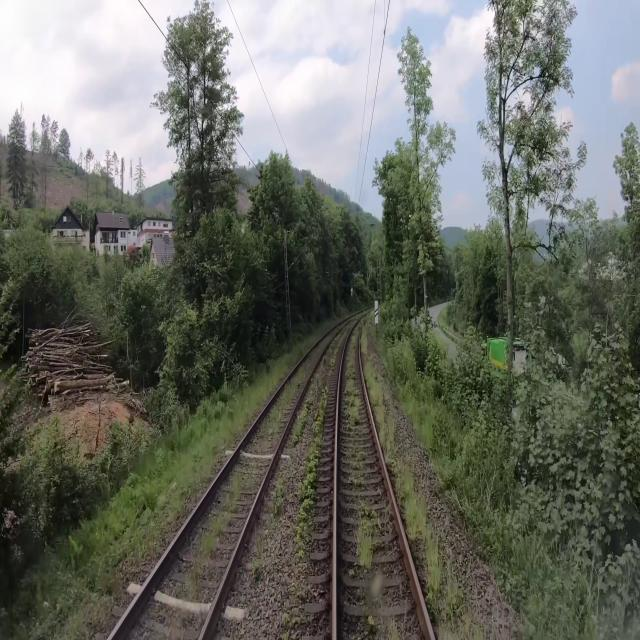Plant: (30, 315, 344, 639), (360, 303, 486, 639), (188, 469, 242, 593), (291, 388, 328, 564), (291, 358, 325, 446), (268, 365, 305, 428), (343, 330, 361, 432), (352, 503, 378, 569), (344, 447, 366, 486), (379, 611, 403, 639), (282, 609, 302, 638), (248, 557, 265, 588), (270, 484, 284, 520)
